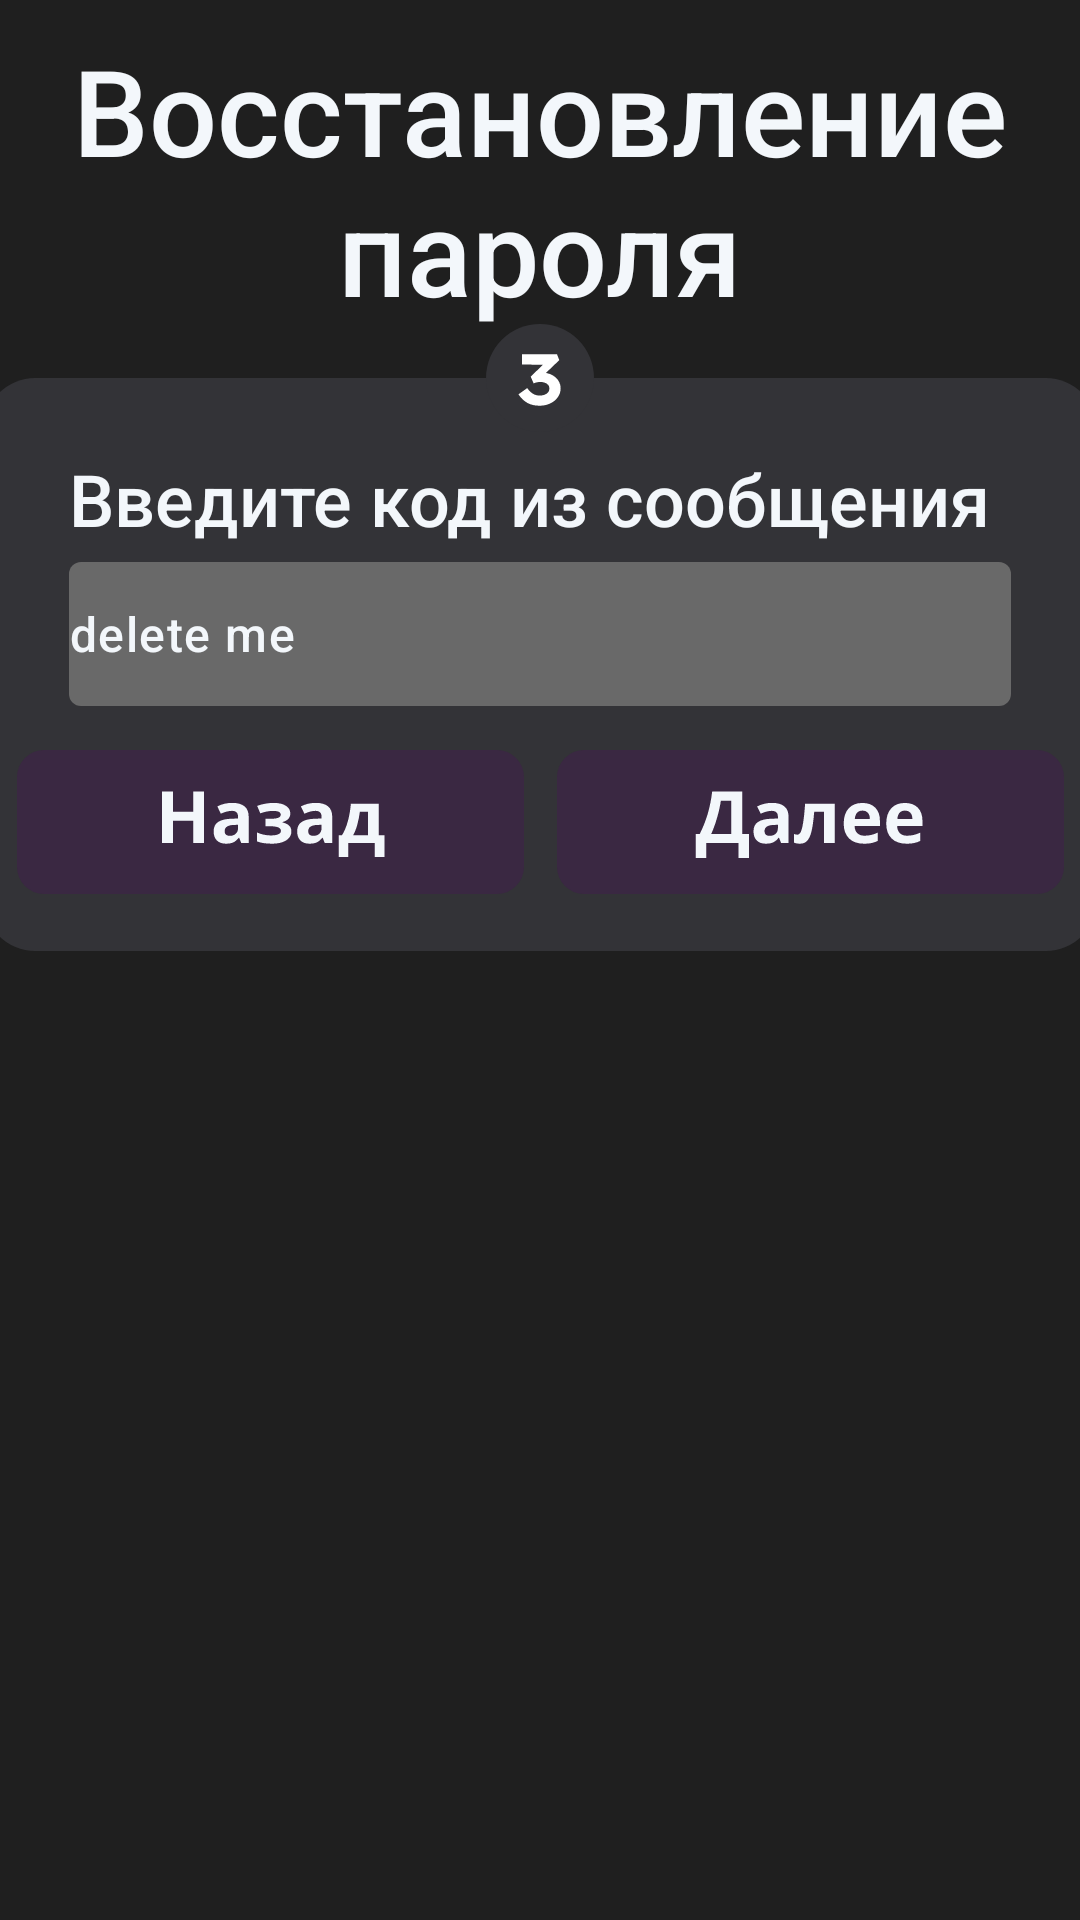

Icons on this 1080x1920 Android screen, each with its box as [x1=x1, y1=y1, x2=x2, y2=y2]:
pagenumberimage: [x1=493, y1=335, x2=587, y2=406]
